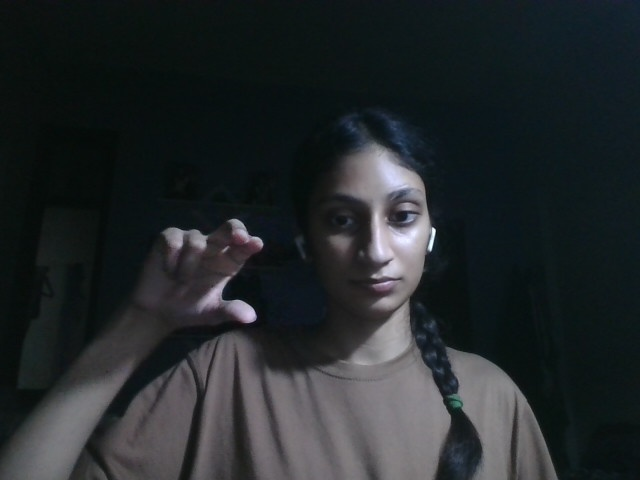no: (140, 217, 260, 326)
